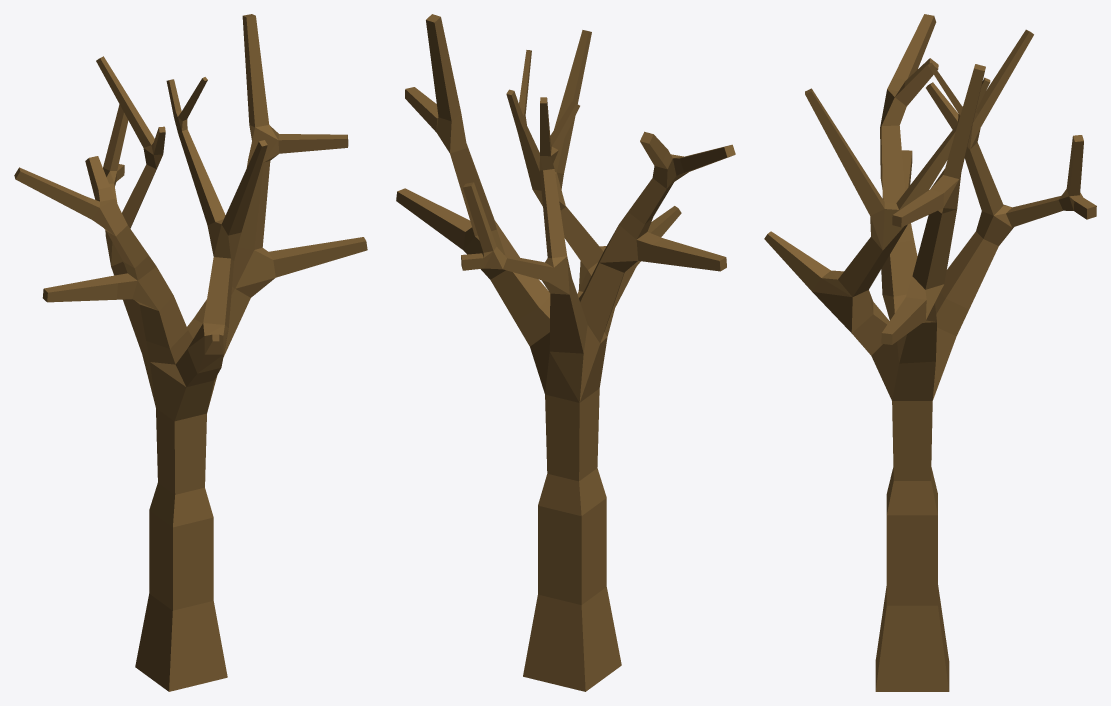
The model's file is TreeDead.fbx.
3 renders of one model, left to right at view 1: azimuth 30°, elevation 25°; view 2: azimuth 150°, elevation 25°; view 3: azimuth 270°, elevation 25°, orthographic. The views are drawn at different scales.
Visible parts, largest first — view 1: Dead_Tree; view 2: Dead_Tree; view 3: Dead_Tree.
Part boxes in pixels (x1,y1,x2,y2): Dead_Tree: (14,14,367,691); Dead_Tree: (396,14,735,691); Dead_Tree: (764,14,1096,691).
Bounding box in the file's own units: 284 × 497 × 226.
